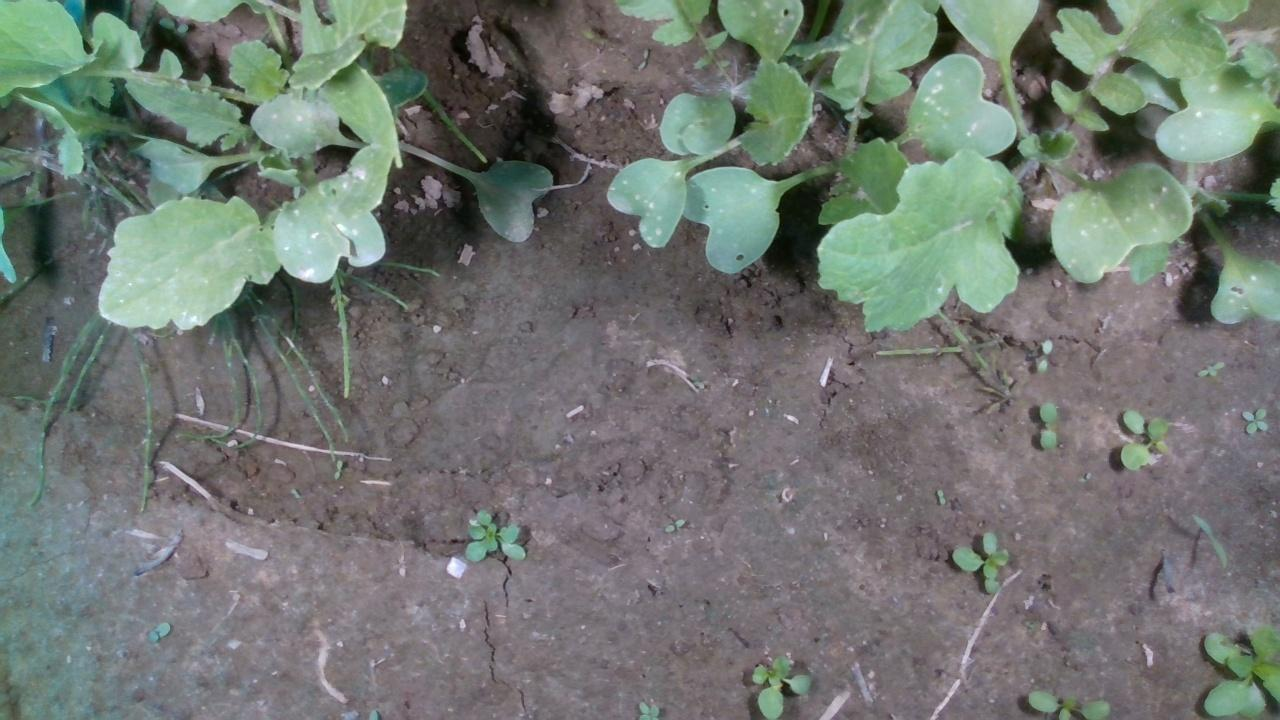weed: (950, 529, 1008, 595), (1119, 407, 1170, 473), (1190, 514, 1227, 568), (1038, 400, 1056, 450), (1239, 405, 1268, 433), (1035, 339, 1053, 374), (1194, 359, 1225, 378), (147, 620, 170, 642), (663, 517, 685, 532), (332, 456, 342, 480), (935, 487, 944, 504), (289, 487, 300, 500)
